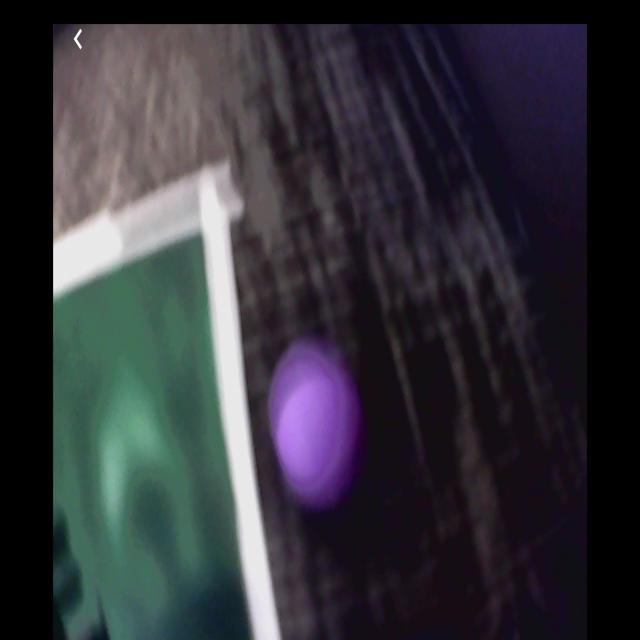ball: (269, 346, 364, 512)
